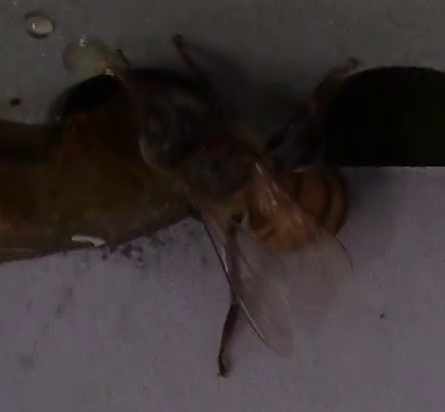Varroa destructor: (199, 133, 234, 160)
